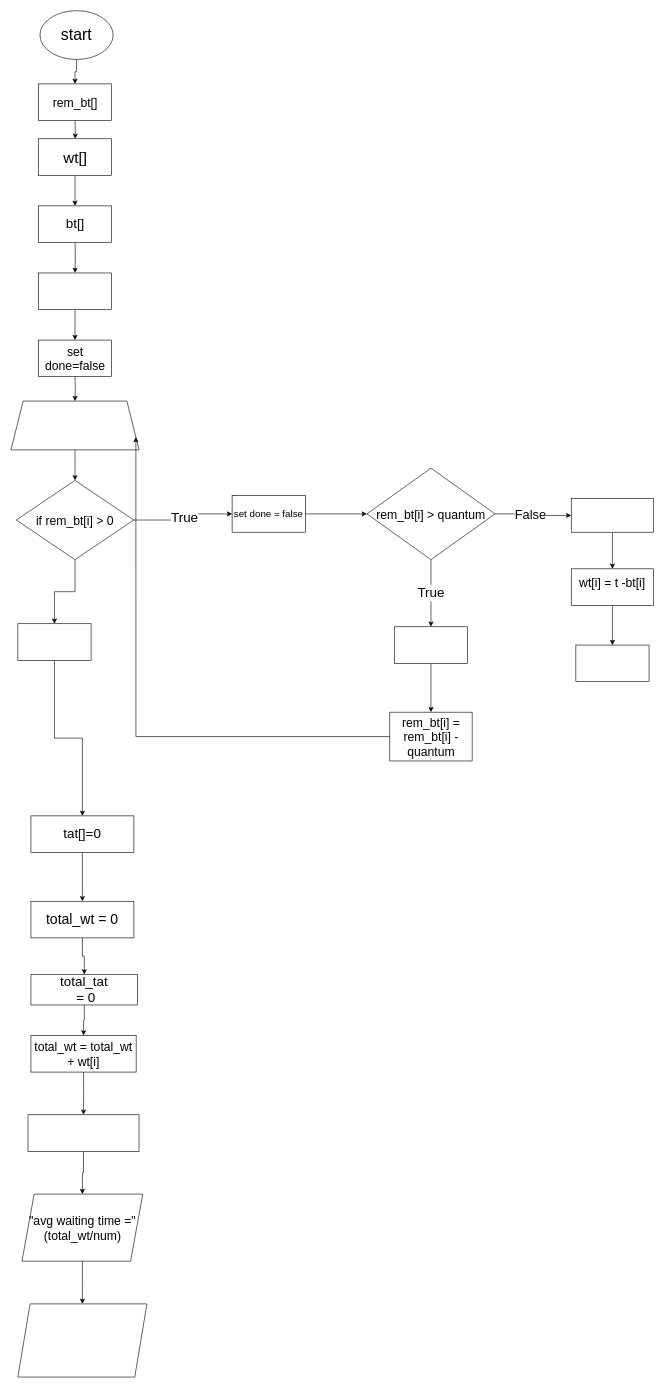
This 664x1388 diagram has some shape labels left out. The shapes that lost their labels are listed below. From the top down, each one's centre as x and y in pixels, then its label:
(75,291): float t
(74,425): for each process i in range(n)
(612,515): t = t+ rem_bt[i]
(54,641): set done = true
(431,644): t =t + quantum
(612,663): rem_bt[i] =0
(83,1132): total_tat = total_tat +tat[i]
(82,1340): "avg turn around time =" (total_tat/num)
